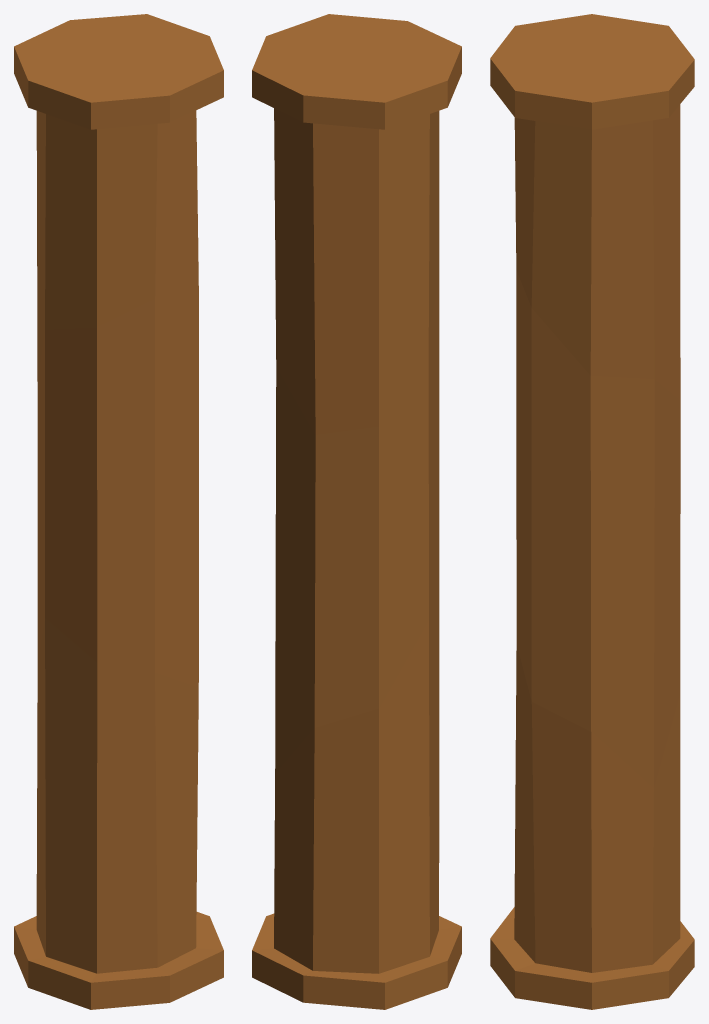
Rendered from Pipe_Long.fbx.
The picture shows the model from 3 angles, left to right: view 1: azimuth 30°, elevation 25°; view 2: azimuth 150°, elevation 25°; view 3: azimuth 270°, elevation 25°; orthographic projection.
Visible parts, largest first — view 1: Pipe_Long; view 2: Pipe_Long; view 3: Pipe_Long.
Part boxes in pixels (x1,y1,x2,y2): Pipe_Long: [14, 14, 223, 1009]; Pipe_Long: [252, 14, 461, 1009]; Pipe_Long: [490, 14, 694, 1009].
Bounding box in the file's own units: 250 × 1194 × 244.
